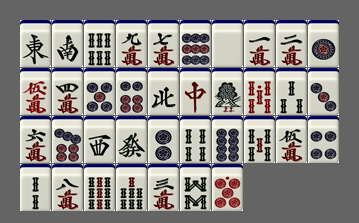0m: (20, 68, 51, 115)
0p: (212, 164, 243, 211)
0s: (244, 68, 275, 115)
1m: (244, 20, 275, 67)
1p: (308, 20, 339, 67)
1s: (212, 68, 243, 115)
1z: (20, 20, 51, 67)
2m: (276, 20, 307, 67)
2p: (148, 116, 179, 163)
2s: (20, 164, 51, 211)
2z: (52, 20, 83, 67)
3m: (148, 164, 179, 211)
3p: (308, 68, 339, 115)
3s: (276, 68, 307, 115)
3z: (84, 116, 115, 163)
4m: (52, 68, 83, 115)
4p: (308, 116, 339, 163)
4s: (180, 116, 211, 163)
4z: (148, 68, 179, 115)
5m: (276, 116, 307, 163)
5p: (84, 68, 115, 115)
5s: (244, 116, 275, 163)
5z: (212, 20, 243, 67)
6m: (20, 116, 51, 163)
6p: (116, 68, 147, 115)
6s: (84, 20, 115, 67)
6z: (116, 116, 147, 163)
7m: (148, 20, 179, 67)
7p: (52, 116, 83, 163)
7s: (116, 164, 147, 211)
7z: (180, 68, 211, 115)
8m: (52, 164, 83, 211)
8p: (212, 116, 243, 163)
8s: (180, 164, 211, 211)
9m: (116, 20, 147, 67)
9p: (180, 20, 211, 67)
9s: (84, 164, 115, 211)
